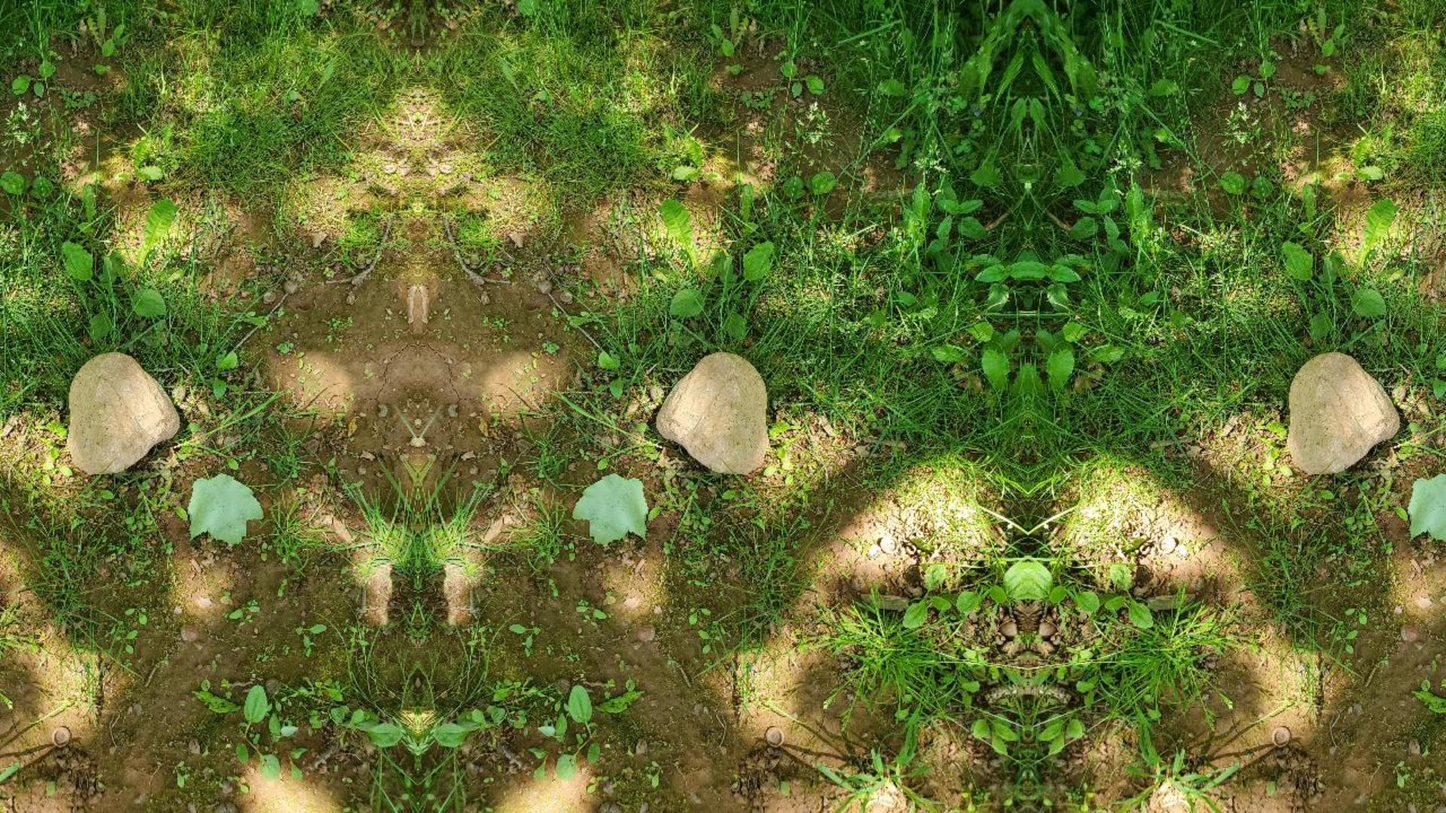rock: (656, 352, 767, 474), (1288, 352, 1399, 474), (68, 352, 178, 474)
